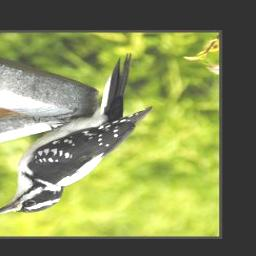Woodpecker: (0, 52, 152, 223)
